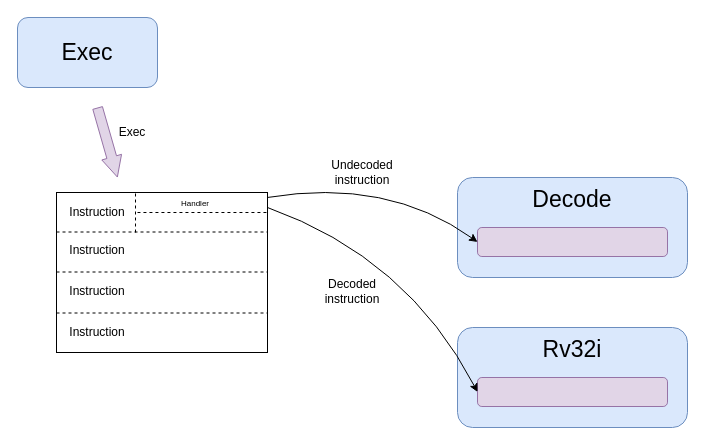
Some shapes in this 705 by 445 pixel diagram are drawn without their labels. The centre of each missing label's shape, as x and y in pixels:
"add_exec" belongs at point (572, 391).
"decode_instruction" belongs at point (572, 241).
